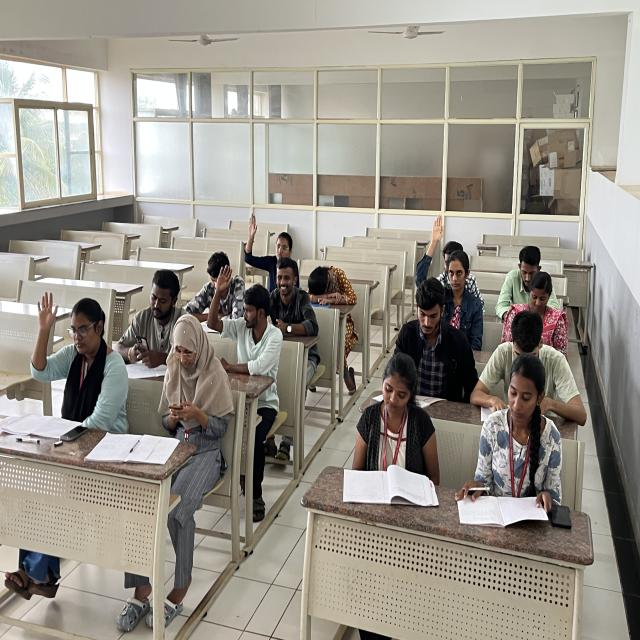Hand Rising: (28, 287, 126, 400), (413, 214, 489, 320), (207, 262, 277, 356), (243, 209, 292, 280)
Reading: (347, 356, 432, 508), (378, 275, 471, 412), (484, 361, 544, 518)
Sleeping: (302, 257, 362, 308)
Using Phone: (161, 314, 224, 427), (121, 264, 181, 363)
